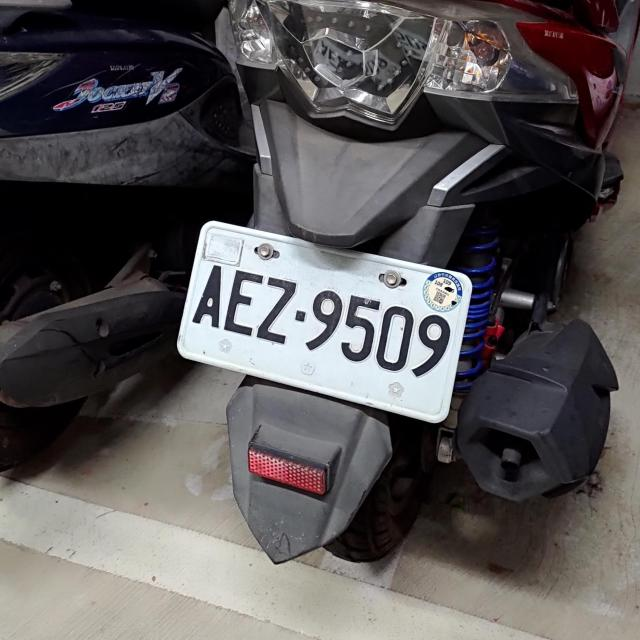W: (174, 217, 472, 427)
